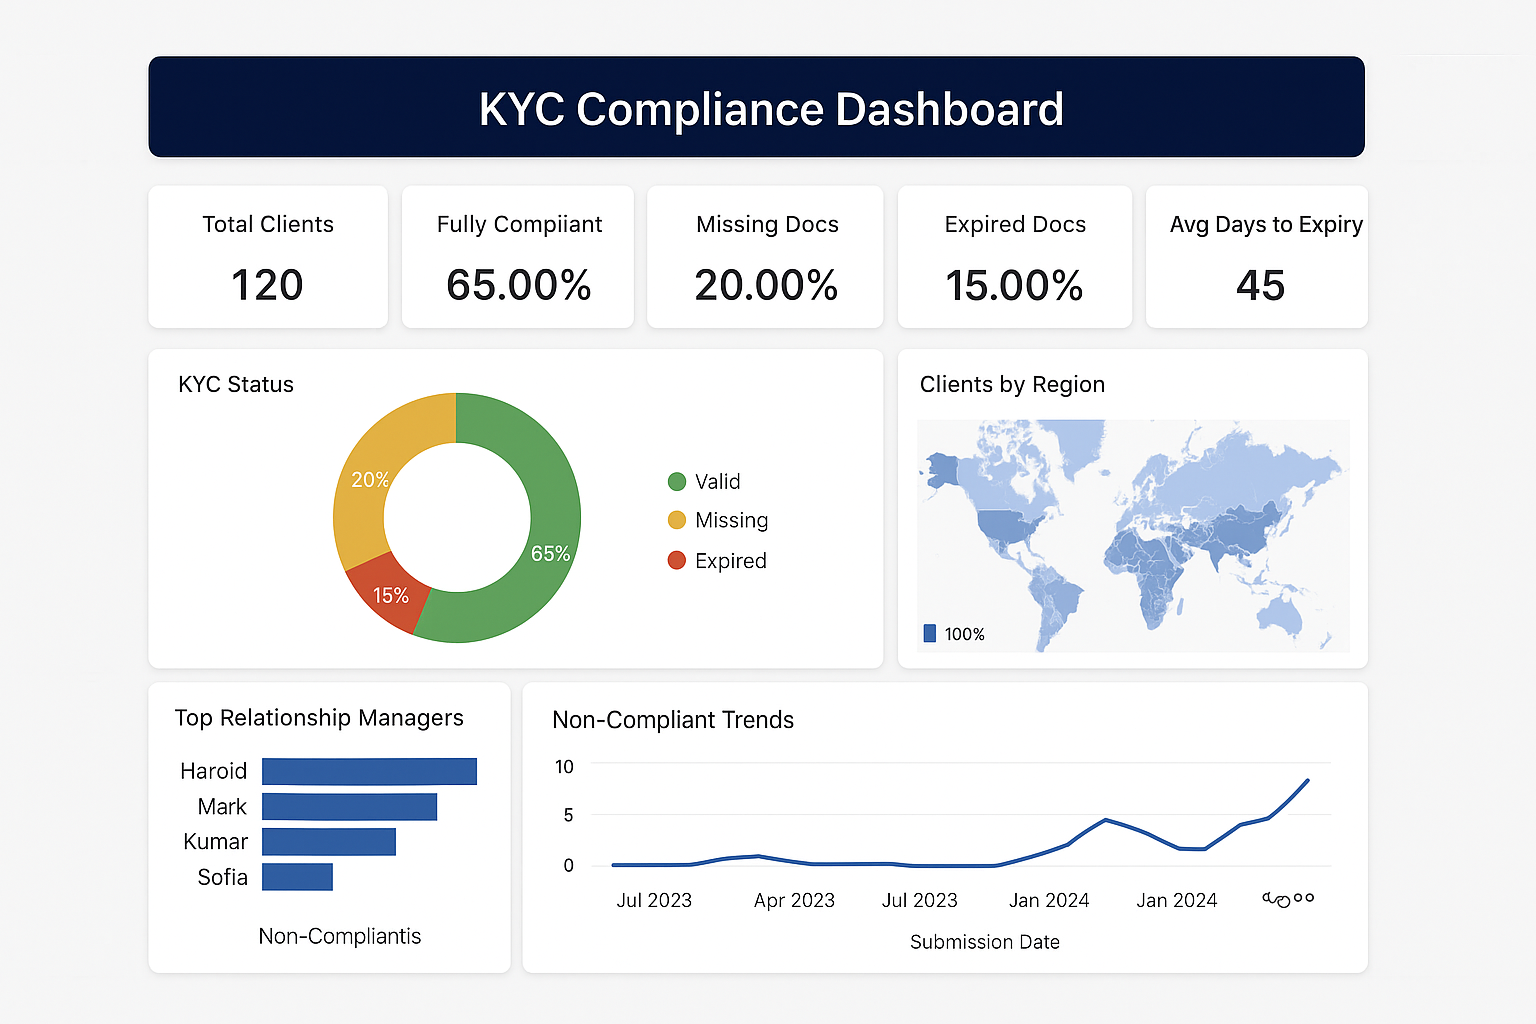

What the dashboard file says about the page in this screenshot:
{"tool":"powerbi","page":{"name":"Page 1","canvas":[1400,900],"ordinal":0},"visuals":[{"type":"cardVisual","fields":{"Data":["DateTable.Total Clients"]},"box":[21.3,183.4,240.7,129.4],"z":0},{"type":"clusteredBarChart","title":"“Top RMs – Non-Compliant Clients”","fields":{"Y":["DateTable.NonCompliant Clients"],"Category":["Table 1 (Sheet1).RelationshipManager"]},"box":[22.9,617.3,492.9,266.9],"z":1000},{"type":"lineChart","title":"“Non-Compliant Clients Over Time”","fields":{"Category":["DateTable.MonthYear"],"Y":["DateTable.NonCompliant Trend (Expiry)"]},"box":[528.9,617.3,853.1,266.9],"z":2000},{"type":"filledMap","title":"\"Clients By Country\"","fields":{"Category":["Table 1 (Sheet1).Country"]},"box":[833.5,342.2,538.7,247.3],"z":3000},{"type":"cardVisual","fields":{"Data":["DateTable.Valid %"]},"box":[288.2,185,240.7,130],"z":4000},{"type":"cardVisual","fields":{"Data":["DateTable.Missing %"]},"box":[571.5,183.4,240.7,130],"z":5000},{"type":"cardVisual","fields":{"Data":["DateTable.Expired %"]},"box":[843.3,183.4,240.7,129.4],"z":6000},{"type":"cardVisual","fields":{"Data":["DateTable.Avg Days to Expiry (Absolute)"]},"box":[1113.5,183.4,240.7,129.4],"z":7000},{"type":"donutChart","title":"\"KYC Status Distribution\"","fields":{"Category":["Table 1 (Sheet1).KYCStatus"],"Y":["Count(Table 1 (Sheet1).ClientID)"]},"box":[291.5,342.2,520.7,247.3],"z":7001},{"type":"FlowVisual_C29F1DCC_81F5_4973_94AD_0517D44CC06A","box":[21,0,241,150],"z":7002},{"type":"textbox","box":[21.3,34.4,1350.9,117.9],"z":7003},{"type":"advancedSlicerVisual","title":"Risk Rating","fields":{"Values":["Table 1 (Sheet1).RiskRating"]},"box":[22.9,342.2,240.7,247.3],"z":7004}]}

Visuals, with their boxes on the page's 1400x900 design canvas (x1, y1, x2, y2). These are canvas units, not pixel positions in the 1536x1024 screenshot, which may show the page scaled, cropped or inside an application window:
cardVisual - DateTable.Total Clients: <box>21,183,262,313</box>
"“Top RMs – Non-Compliant Clients”" clusteredBarChart: <box>23,617,516,884</box>
"“Non-Compliant Clients Over Time”" lineChart: <box>529,617,1382,884</box>
""Clients By Country"" filledMap: <box>834,342,1372,590</box>
cardVisual - DateTable.Valid %: <box>288,185,529,315</box>
cardVisual - DateTable.Missing %: <box>572,183,812,313</box>
cardVisual - DateTable.Expired %: <box>843,183,1084,313</box>
cardVisual - DateTable.Avg Days to Expiry (Absolute): <box>1114,183,1354,313</box>
""KYC Status Distribution"" donutChart: <box>292,342,812,590</box>
FlowVisual_C29F1DCC_81F5_4973_94AD_0517D44CC06A: <box>21,0,262,150</box>
textbox: <box>21,34,1372,152</box>
"Risk Rating" advancedSlicerVisual: <box>23,342,264,590</box>
